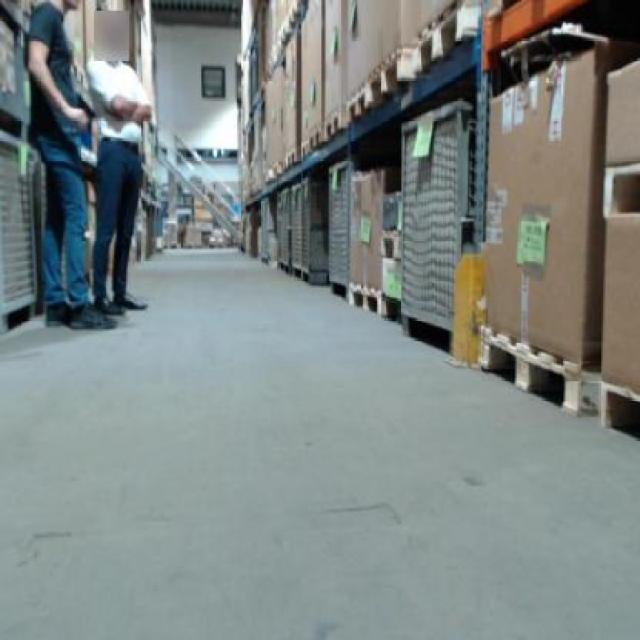ground: (0, 249, 638, 638)
pallet: (479, 326, 602, 424), (406, 0, 482, 81), (361, 42, 414, 110), (393, 300, 457, 354), (296, 99, 348, 162), (267, 1, 307, 75), (597, 373, 638, 444), (597, 158, 638, 217), (3, 289, 43, 340), (343, 283, 392, 322), (342, 77, 372, 130), (0, 104, 34, 146), (287, 265, 330, 289)
